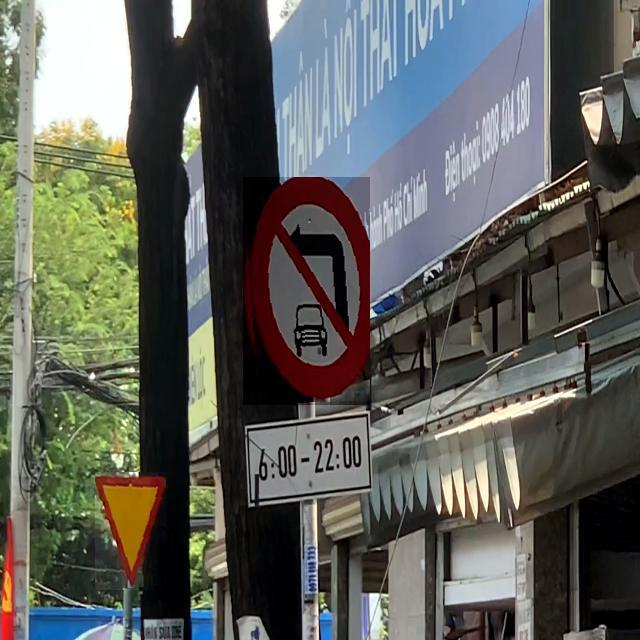P-103c: (243, 178, 370, 406)
W-208: (96, 473, 168, 591)
